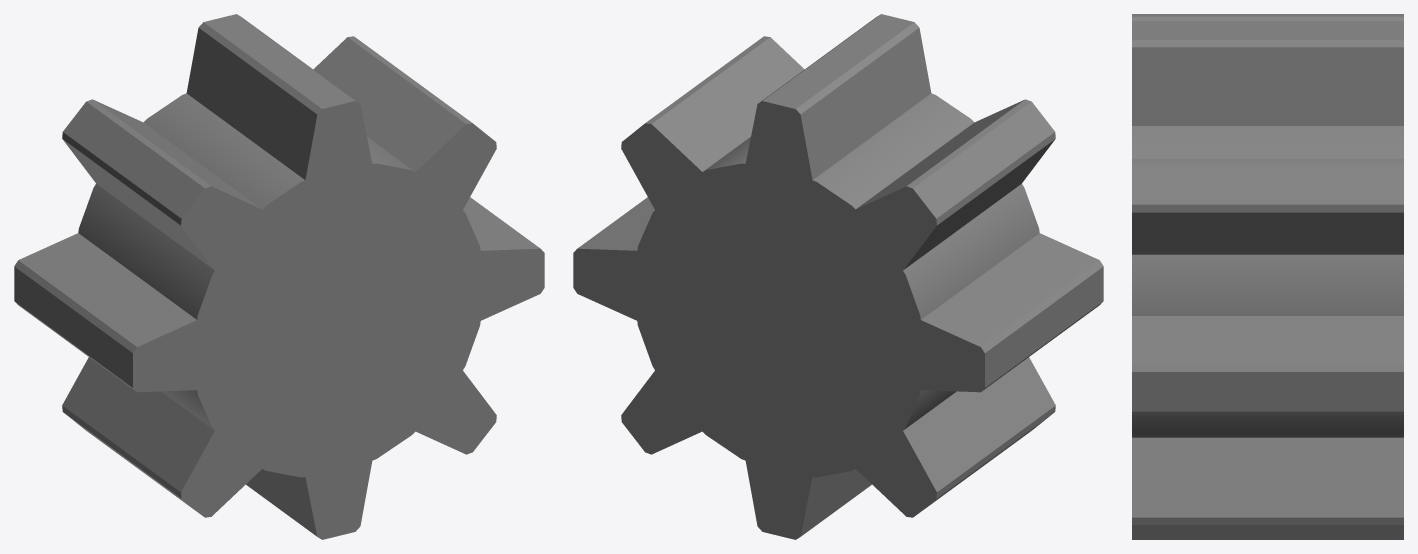
The model's file is gear01.fbx.
3 renders of one model, left to right at view 1: azimuth 30°, elevation 25°; view 2: azimuth 150°, elevation 25°; view 3: azimuth 270°, elevation 25°, orthographic. The views are drawn at different scales.
Visible parts, largest first — view 1: polySurface7; view 2: polySurface7; view 3: polySurface7.
Part boxes in pixels (box(x1,y1,x2,y2)): polySurface7: box(14, 14, 544, 539); polySurface7: box(573, 14, 1103, 539); polySurface7: box(1132, 14, 1403, 539).
Size of the model in its own units: 1 by 1 by 0.5.
1 material, 1 textured.
